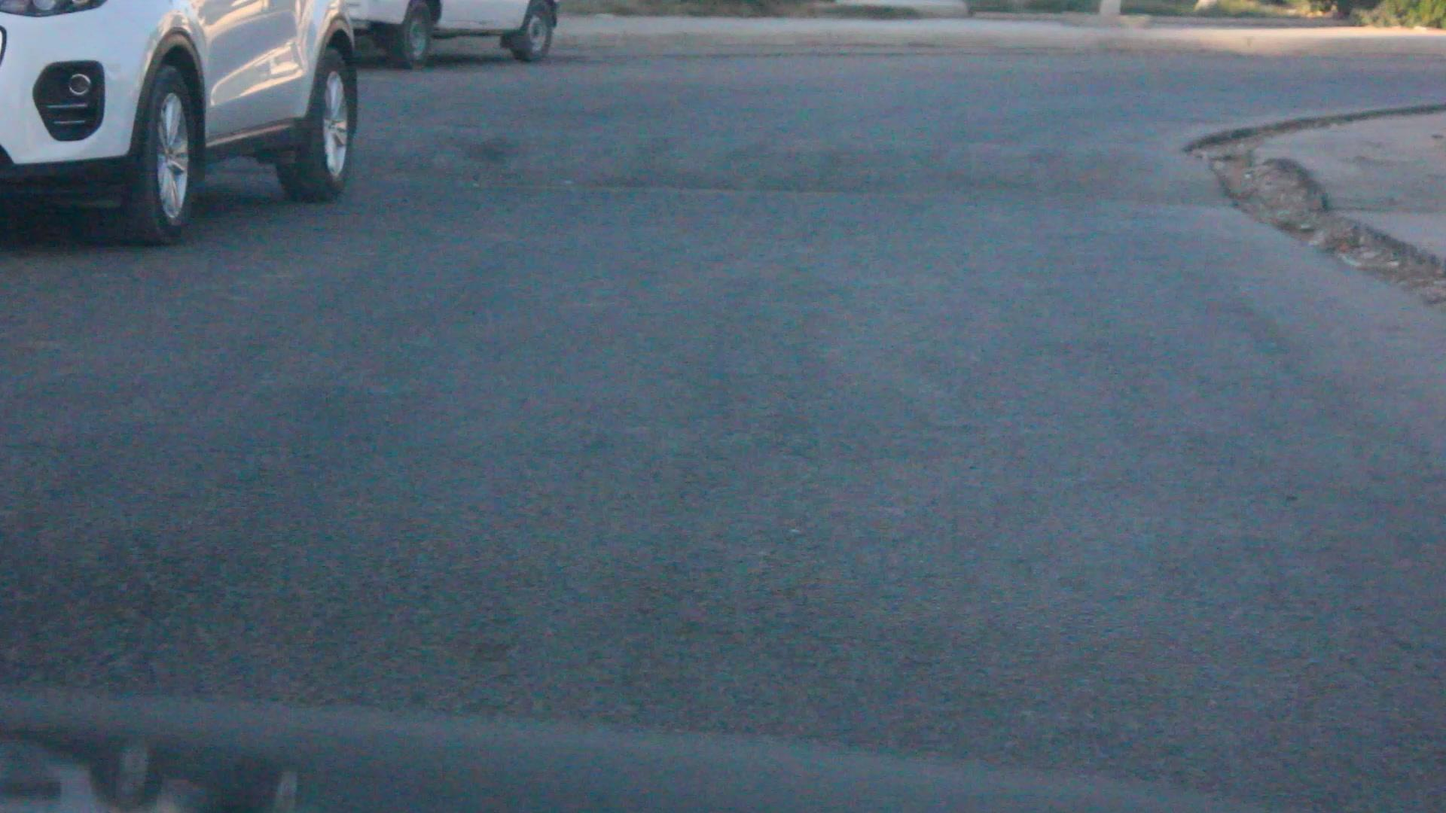Bump: (352, 111, 1224, 205)
